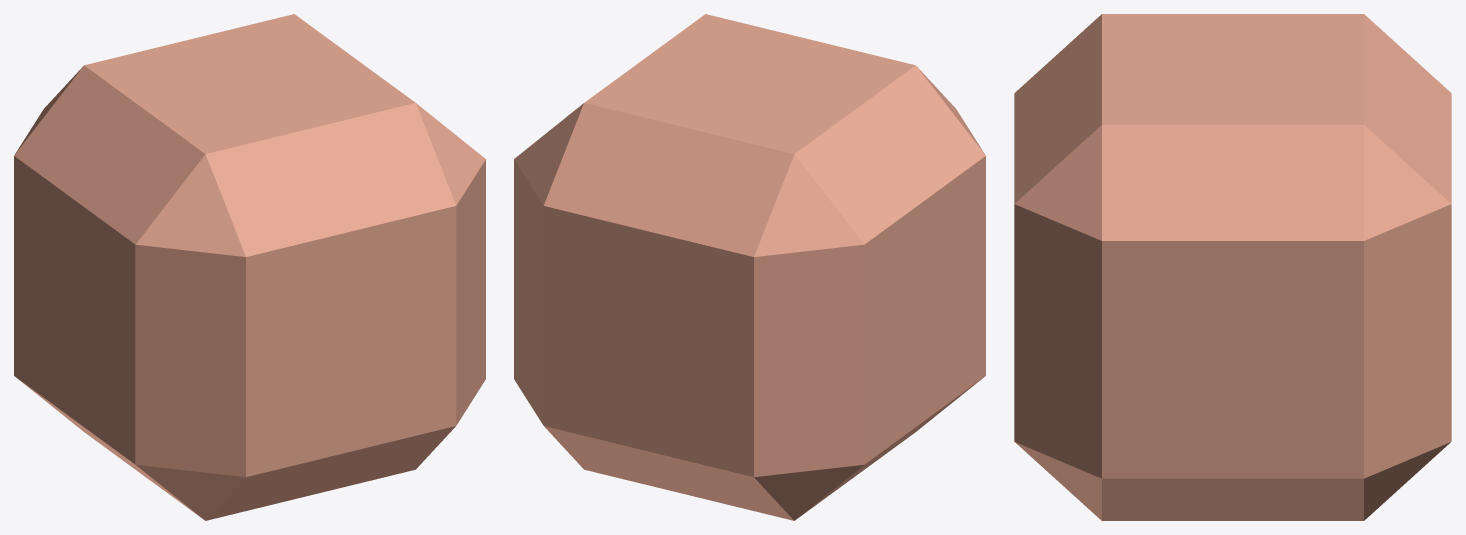
3 views of the same model, side by side, from view 1: azimuth 30°, elevation 25°; view 2: azimuth 150°, elevation 25°; view 3: azimuth 270°, elevation 25° (orthographic). The views are drawn at different scales.
Parts seen in each view (by area): view 1: Cube; view 2: Cube; view 3: Cube.
Part boxes in pixels (x1=…): Cube: x1=14, y1=14, x2=485, y2=520; Cube: x1=514, y1=14, x2=985, y2=520; Cube: x1=1014, y1=14, x2=1451, y2=520.
Size of the model in its own units: 1 by 1 by 1.
